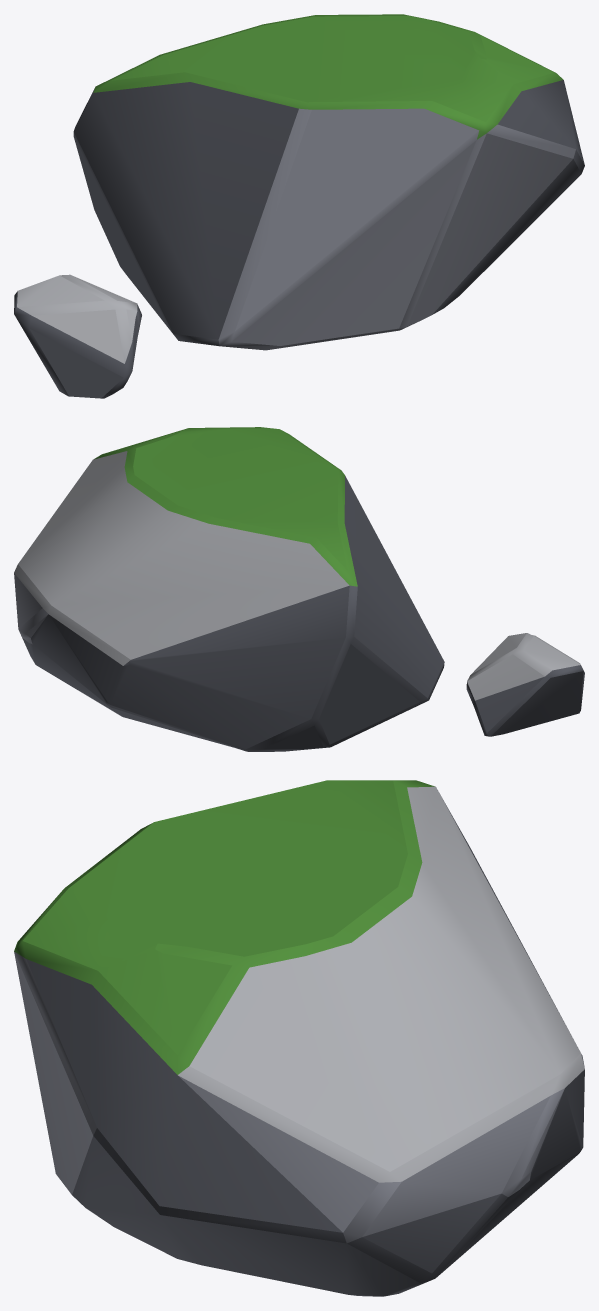
Rendered from Boulder_23.glb.
The picture shows the model from 3 angles, top to bottom: view 1: azimuth 30°, elevation 25°; view 2: azimuth 150°, elevation 25°; view 3: azimuth 270°, elevation 25°; orthographic projection. The views are drawn at different scales.
Visible parts, largest first — view 1: Boulder_23; view 2: Boulder_23; view 3: Boulder_23.
Part boxes in pixels (box(x1,y1,x2,y2)): Boulder_23: box(14, 14, 584, 398); Boulder_23: box(14, 427, 584, 751); Boulder_23: box(14, 780, 584, 1296).
Size of the model in its own units: 6.73 by 2.49 by 4.08.
